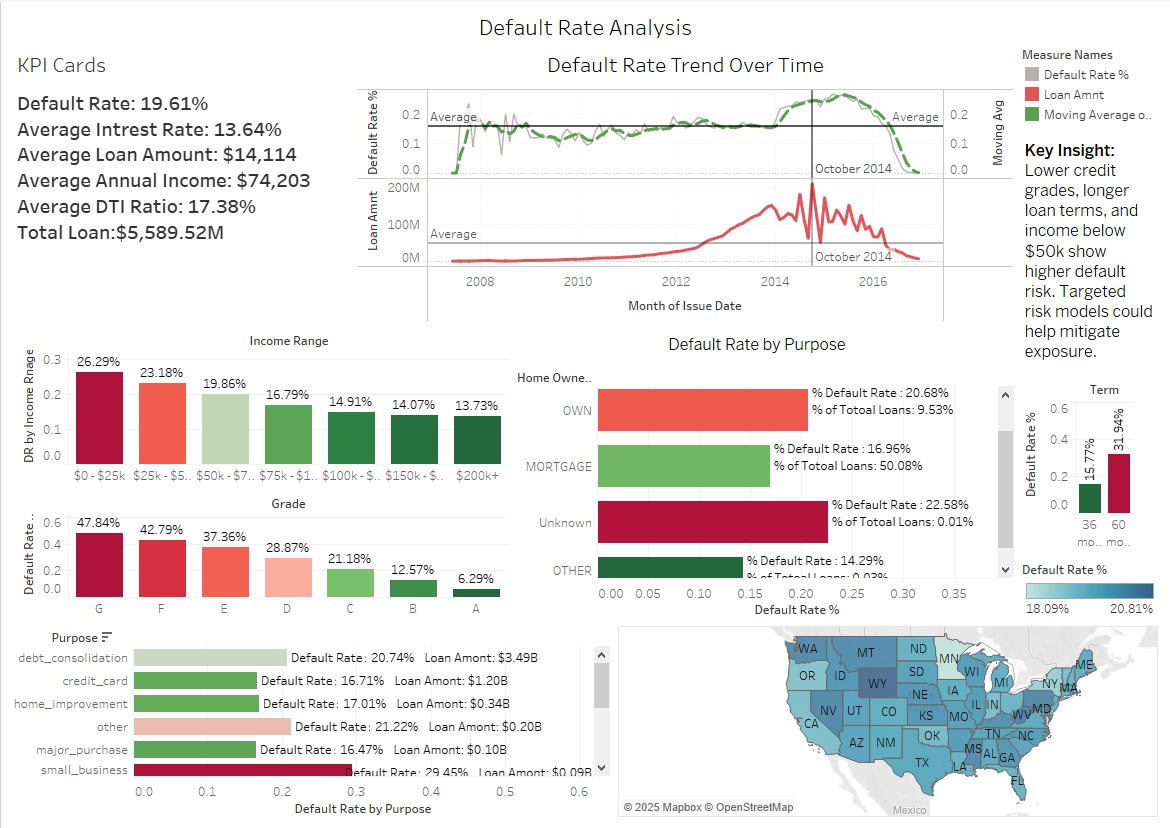

What the dashboard file says about the page in this screenshot:
{"tool":"tableau","page":{"name":"Dashboard 1","canvas":[1169,827],"ordinal":0},"visuals":[{"type":"text","box":[8,8,1153,32]},{"type":"worksheet","title":"KPI Card","mark":"Automatic","box":[8,40,344.5,284]},{"type":"worksheet","title":"DR - Over time","mark":"Automatic","rows":["Calculation_2043226919075098630","loan_amnt"],"cols":["Calculation_1089871173537439744"],"box":[352.5,40,664.6,284]},{"type":"legend","title":"DR - Over time","param":"[federated.1vlj1ls0ms3ljl1c96kbb0gsggc4].[:Measure Names]","box":[1017,40,144,95]},{"type":"text","box":[1017,135,144,238]},{"type":"worksheet","title":" DR - Income Range","mark":"Bar","rows":["Default Rate by Income Rnage (copy)_823032897223180295"],"cols":["Calculation_823032897219358724"],"box":[8,324,504.5,163.3]},{"type":"worksheet","title":"DR - Home Ownership","mark":"Automatic","rows":["home_ownership"],"cols":["Calculation_2043226919075098630"],"box":[512.5,324,504.5,296]},{"type":"worksheet","title":"DR - Term","mark":"Automatic","rows":["Calculation_2043226919075098630"],"cols":["term"],"box":[1017,373,144,182]},{"type":"worksheet","title":"DR - Credit Grade","mark":"Automatic","rows":["Calculation_823032897216360448"],"cols":["grade"],"box":[8,487.3,504.5,132.7]},{"type":"legend","title":"DR - State","param":"[federated.1vlj1ls0ms3ljl1c96kbb0gsggc4].[usr:Calculation_2043226919075098630:qk","box":[1017,555,144,65]},{"type":"worksheet","title":"DR - Loan Purpose","mark":"Automatic","rows":["purpose"],"cols":["Default Rate by Income Rnage (copy)_1872653085545594881"],"box":[8,620,605,199]},{"type":"worksheet","title":"DR - State","mark":"Automatic","box":[613,620,548,199]}]}

Visuals, with their boxes in screenshot pixels (x1, y1, x2, y2), scaled from the page's 1169x827 canvas onto the 1170x828 screenshot:
text: bbox(8, 8, 1162, 40)
"KPI Card" worksheet: bbox(8, 40, 353, 324)
"DR - Over time" worksheet: bbox(353, 40, 1018, 324)
"DR - Over time" legend: bbox(1018, 40, 1162, 135)
text: bbox(1018, 135, 1162, 373)
" DR - Income Range" worksheet (Bar marks): bbox(8, 324, 513, 488)
"DR - Home Ownership" worksheet: bbox(513, 324, 1018, 621)
"DR - Term" worksheet: bbox(1018, 373, 1162, 556)
"DR - Credit Grade" worksheet: bbox(8, 488, 513, 621)
"DR - State" legend: bbox(1018, 556, 1162, 621)
"DR - Loan Purpose" worksheet: bbox(8, 621, 614, 820)
"DR - State" worksheet: bbox(614, 621, 1162, 820)
